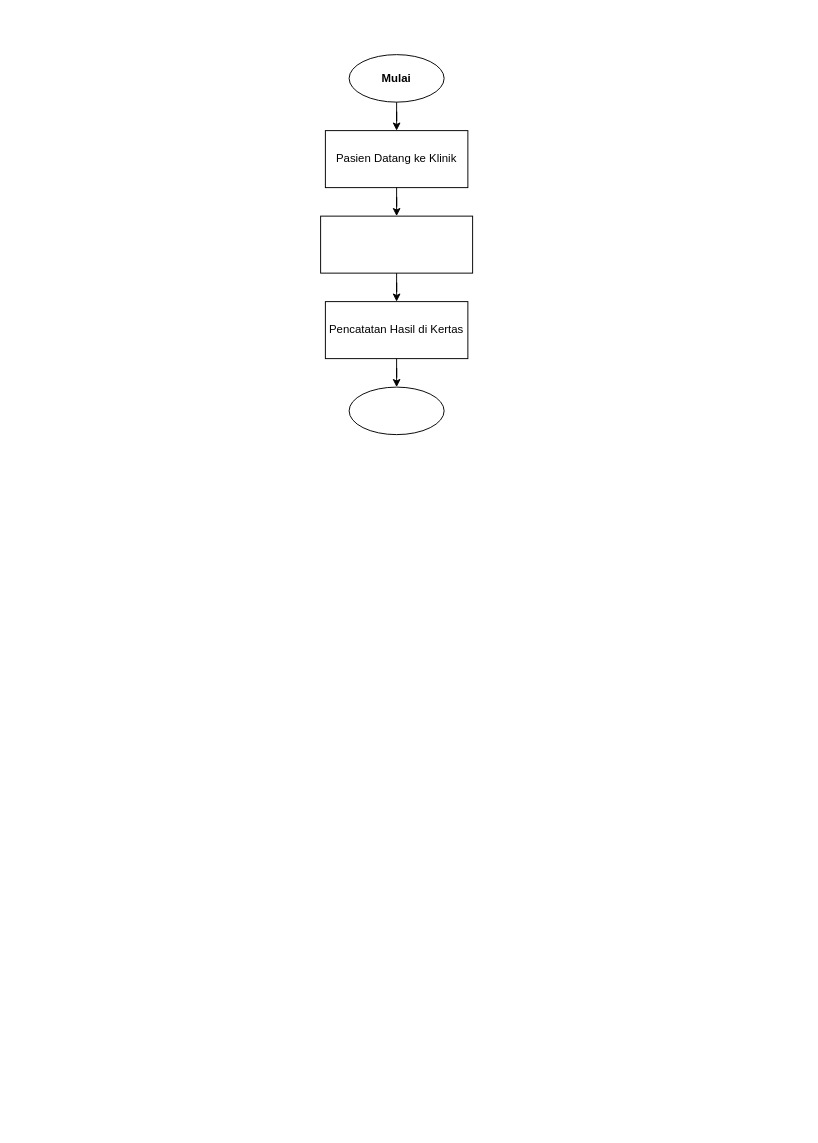
The diagram is 818 pixels wide and 1143 high, and some of its shapes have lost their labels. The shapes that lost their labels are listed below. From the top down, each one's centre as x and y in pixels, then its label:
At [396,244]: "Pemeriksaan Manual oleh Pakar".
At [396,410]: "Selesai".
